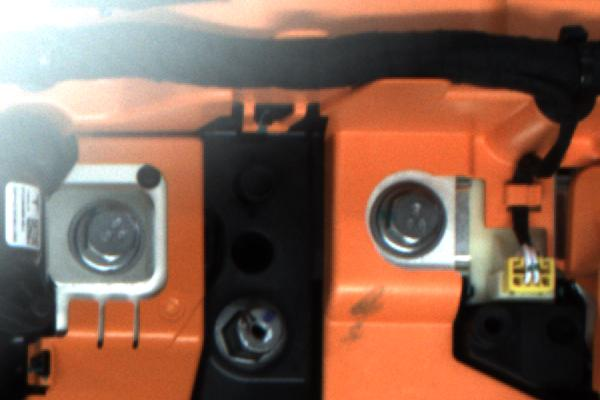nut_b: (62, 196, 158, 280), (366, 178, 451, 259)
